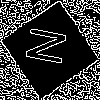N: (25, 25, 77, 69)
